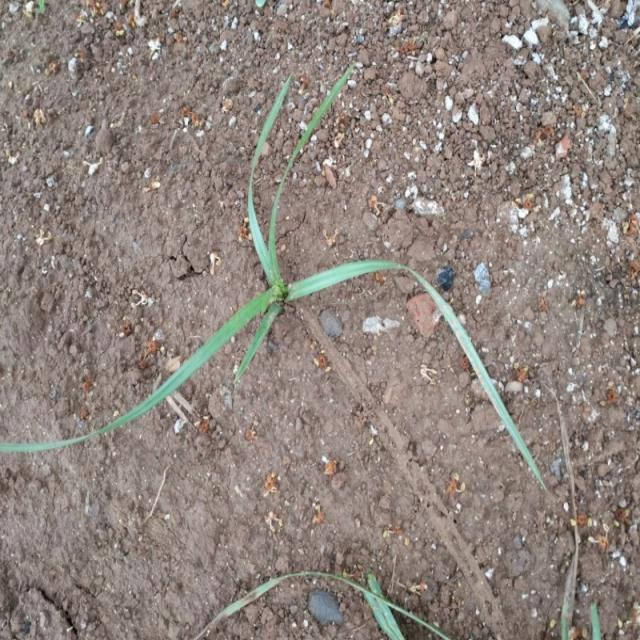sedge: (45, 124, 558, 502)
